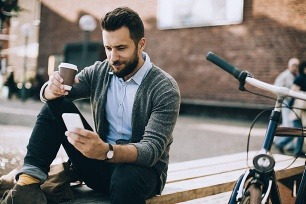male: (99, 22, 141, 80)
